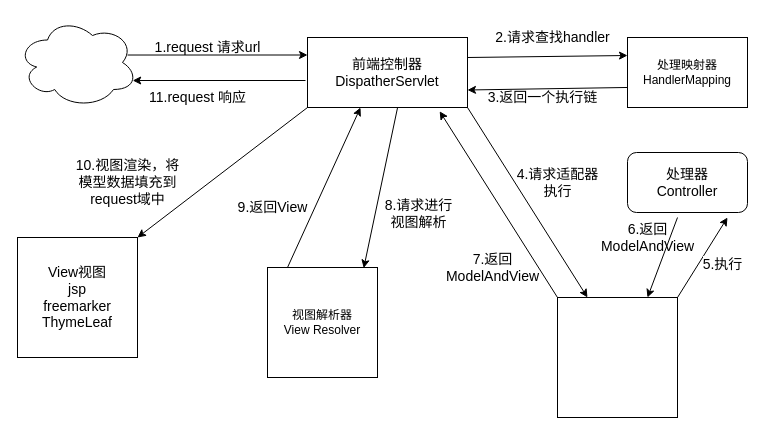
Image size: 765x435. Some labels were removed from this diagram. Each missing label, with the centre of its shape:
处理适配器 HandlerAdapter: (x=617, y=357)
浏览器: (x=77, y=62)
